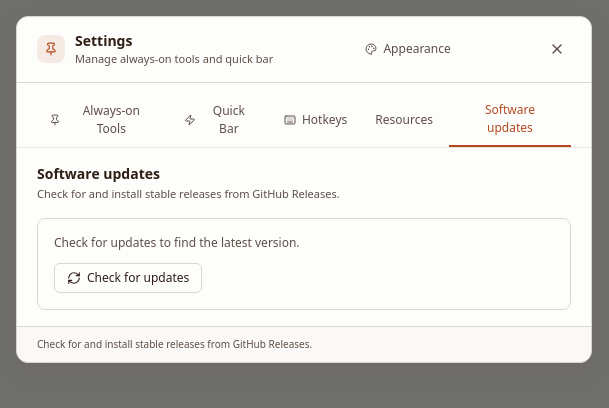
software update status › clears a previous up-to-date result when a later check fails
What coordinates should you click on to do the following:
click the button "Check for updates"
I would click on:
 (128, 278)
Its box is 54,263 -> 202,293.
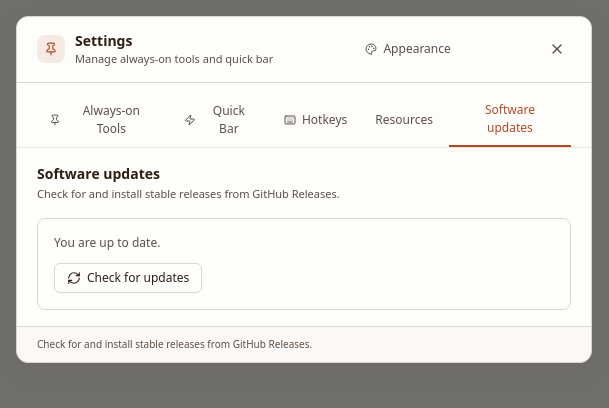
Check: the text "You are up to date." is shown, box 54,234 -> 160,251
What coordinates should you click on to do the following:
click the button "Check for updates"
I would click on:
 (128, 278)
Its box is 54,263 -> 202,293.
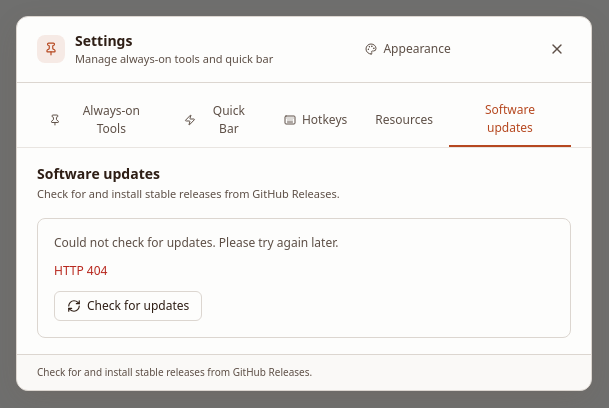
Check: the text "HTTP 404" is shown, box 54,262 -> 108,279
Check: the text "You are up to date." is gone
